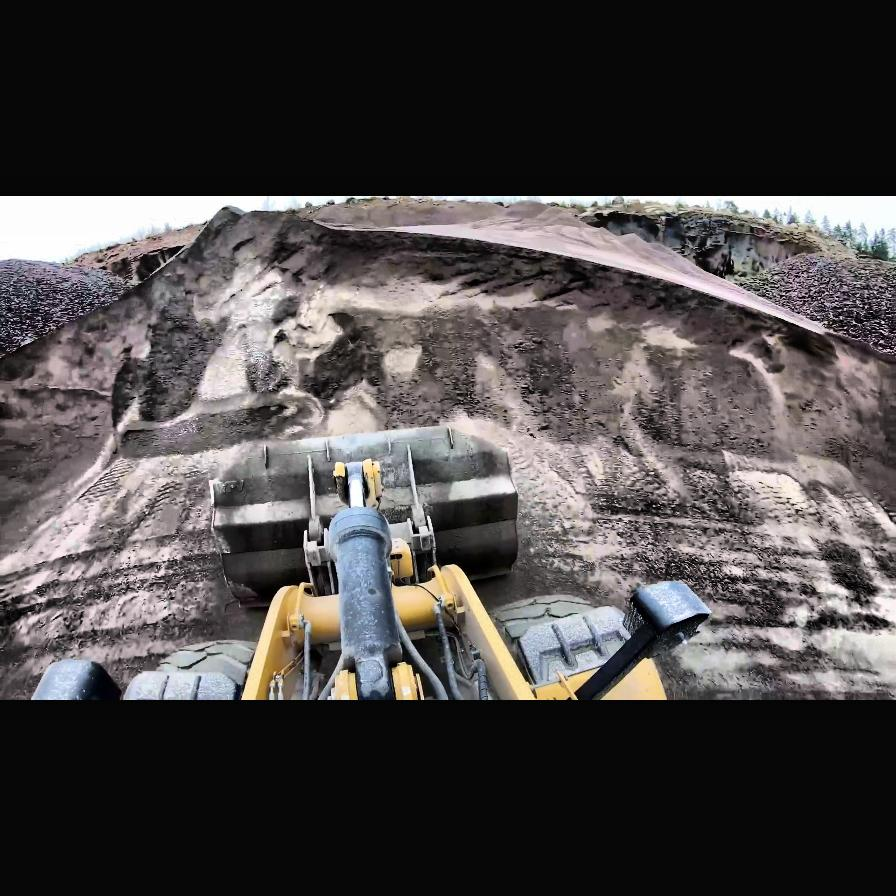anchor: (334, 458, 380, 509)
pile of gravel: (0, 206, 896, 510), (730, 251, 896, 357), (0, 257, 144, 361)
